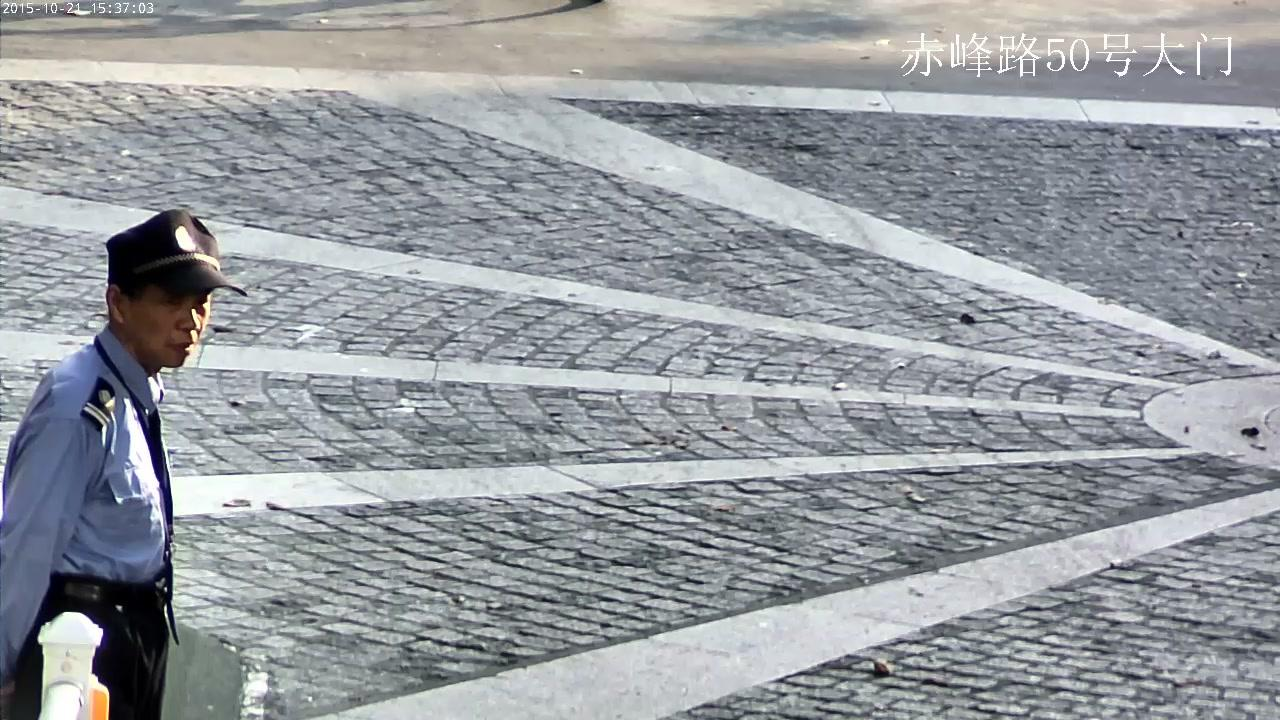face: (125, 283, 210, 367)
